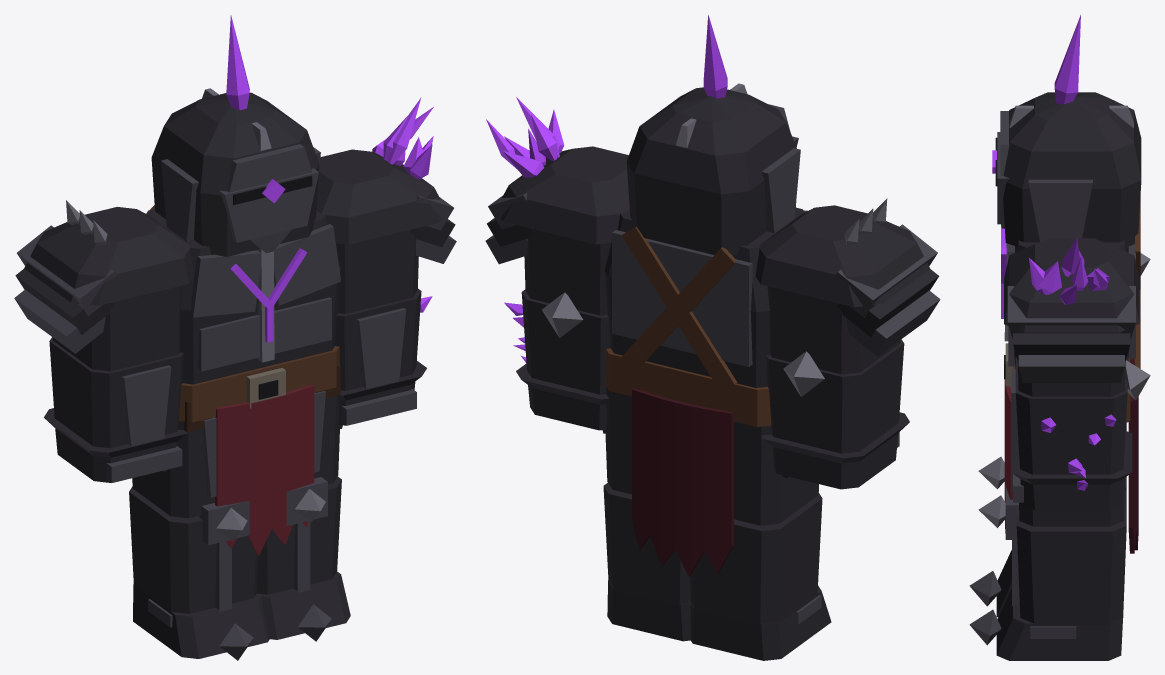
Rendered from onehorn_armor.fbx.
The picture shows the model from 3 angles, left to right: view 1: azimuth 30°, elevation 25°; view 2: azimuth 150°, elevation 25°; view 3: azimuth 270°, elevation 25°; orthographic projection. The views are drawn at different scales.
Visible parts, largest first — view 1: RightUpperArm_Armor, Head_Armor, UpperTorso_Armor, LowerTorso_Armor, LeftUpperArm_Armor, RightLowerLeg_Armor, RightLowerArm_Armor, LeftLowerLeg_Armor, LeftLowerArm_Armor, RightFoot_Armor, RightUpperLeg_Armor, RightHand_Armor (+6 smaller); view 2: Head_Armor, RightUpperArm_Armor, LowerTorso_Armor, UpperTorso_Armor, LeftUpperArm_Armor, RightLowerLeg_Armor, RightLowerArm_Armor, LeftLowerArm_Armor, LeftLowerLeg_Armor, RightUpperLeg_Armor, RightFoot_Armor, RightHand_Armor (+5 smaller); view 3: Head_Armor, LeftUpperArm_Armor, LeftLowerLeg_Armor, LeftLowerArm_Armor, LeftFoot_Armor, LeftHand_Armor, LowerTorso_Armor, LeftUpperArm_Glow, LeftUpperLeg_Armor, UpperTorso_Armor, Head_Glow, RightFoot_Armor (+3 smaller).
Part boxes in pixels (x1,y1,x2,y2): RightUpperArm_Armor: [14, 200, 193, 371]; Head_Armor: [151, 88, 320, 256]; UpperTorso_Armor: [146, 205, 340, 384]; LowerTorso_Armor: [162, 346, 342, 555]; LeftUpperArm_Armor: [316, 149, 456, 313]; RightLowerLeg_Armor: [129, 486, 258, 613]; RightLowerArm_Armor: [49, 337, 183, 448]; LeftLowerLeg_Armor: [257, 476, 341, 594]; LeftLowerArm_Armor: [335, 288, 421, 390]; RightFoot_Armor: [133, 584, 269, 660]; RightUpperLeg_Armor: [132, 417, 216, 518]; RightHand_Armor: [44, 408, 187, 482]; Head_Armor: [626, 83, 800, 255]; RightUpperArm_Armor: [755, 198, 940, 374]; LowerTorso_Armor: [602, 348, 788, 576]; UpperTorso_Armor: [604, 207, 807, 392]; LeftUpperArm_Armor: [485, 146, 629, 315]; RightLowerLeg_Armor: [690, 493, 822, 625]; RightLowerArm_Armor: [766, 339, 904, 453]; LeftLowerArm_Armor: [521, 289, 610, 394]; LeftLowerLeg_Armor: [603, 483, 690, 606]; RightUpperLeg_Armor: [734, 421, 818, 525]; RightFoot_Armor: [690, 585, 831, 660]; RightHand_Armor: [761, 412, 909, 489]; Head_Armor: [995, 92, 1141, 247]; LeftUpperArm_Armor: [1004, 238, 1139, 396]; LeftLowerLeg_Armor: [978, 485, 1126, 624]; LeftLowerArm_Armor: [1011, 357, 1150, 474]; LeftFoot_Armor: [969, 588, 1122, 660]; LeftHand_Armor: [1011, 431, 1132, 510]; LowerTorso_Armor: [1004, 343, 1138, 553]; LeftUpperArm_Glow: [1028, 237, 1109, 304]; LeftUpperLeg_Armor: [1011, 423, 1126, 526]; UpperTorso_Armor: [1004, 196, 1140, 368]; Head_Glow: [992, 15, 1080, 173]; RightFoot_Armor: [969, 550, 1011, 617].
Size of the model in its own units: 517 by 736 by 198.
2 materials, 2 textured.
